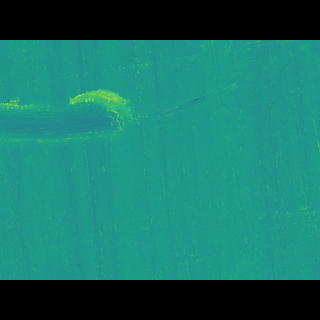Loch: (132, 70, 312, 134), (0, 105, 136, 151)
